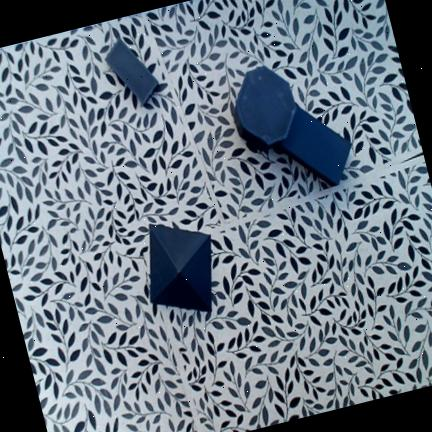Paralelepipedo: (277, 105, 351, 187), (105, 39, 158, 103)
Piramide: (150, 224, 211, 310)
Prisma_hexagonal: (233, 65, 296, 152)
